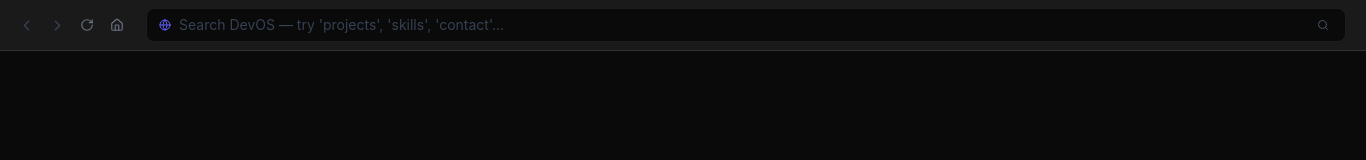
Browser Component — Internal-Only Navigation › typing "skill" should suggest the Skills page
The width and height of the screenshot is (1366, 160).
Type "skill" into the field with placeholder "Search DevOS — try 'projects', 'skills', 'contact'...". click: point(742, 25)
box: [179,15,1305,35]
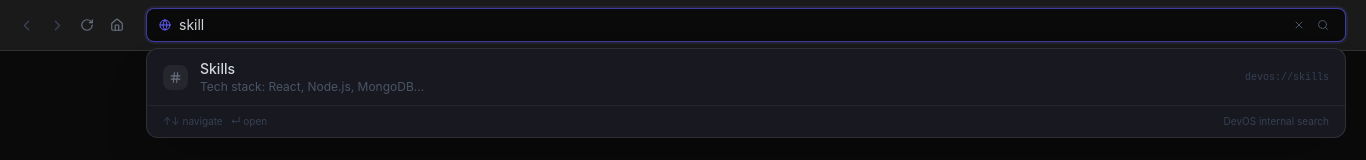
Result: the text "Skills" next to "devos://skills" is shown at [200,60,235,77]
